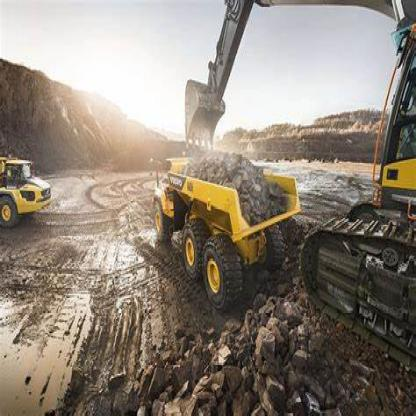dump_truck: (145, 150, 301, 308), (1, 153, 55, 233)
